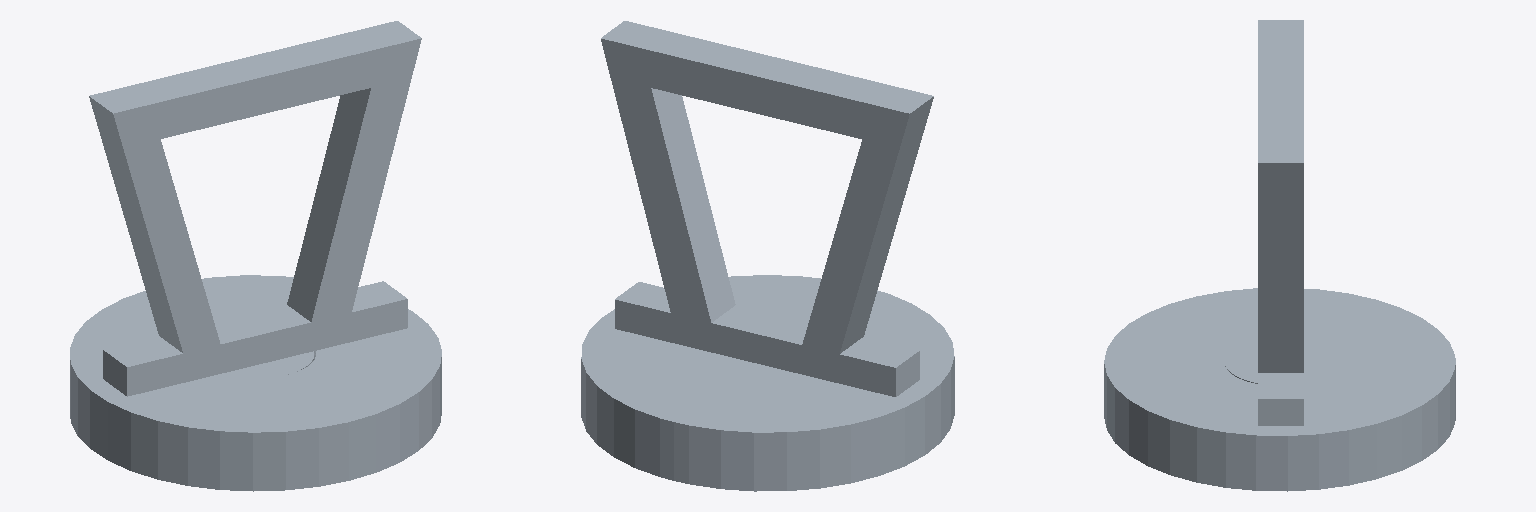
robot.urdf — valve_1:
<?xml version="1.0" encoding="utf-8"?>
<!-- Cleaned from the supplied SolidWorks part export. Source CAD file is not redistributed. -->
<robot name="valve_1">
  <link name="valve_1">
    <inertial>
      <origin
        xyz="0.00026275 -0.015438 0.091341"
        rpy="0 0 0" />
      <mass
        value="2.0277" />
      <inertia
        ixx="0.014088"
        ixy="-2.15919999999997E-07"
        ixz="-4.9058E-05"
        iyy="0.016248"
        iyz="2.85929999999998E-05"
        izz="0.013115" />
    </inertial>
    <visual>
      <origin
        xyz="0 0 0"
        rpy="1.5707963267949 0 0" />
      <geometry>
        <mesh
          filename="package://valve_1/meshes/1号阀.SLDPRT.STL" />
      </geometry>
      <material name="valve_1_material">
        <color rgba="0.72 0.76 0.80 1" />
      </material>
    </visual>
    <collision>
      <origin
        xyz="0 0 0"
        rpy="1.5707963267949 0 0" />
      <geometry>
        <mesh
          filename="package://valve_1/meshes/1号阀.SLDPRT.STL" />
      </geometry>
    </collision>
  </link>
</robot>

--- Render facts (derived) ---
3 views of the same robot in one strip: view 1: azimuth 30°, elevation 25°; view 2: azimuth 150°, elevation 25°; view 3: azimuth 270°, elevation 25° (orthographic).
Model valve_1 with 1 links and 0 joints (none), rooted at valve_1, posed all joints at 0.
Links seen in each view (by area): view 1: valve_1; view 2: valve_1; view 3: valve_1.
Link boxes in pixels (x1,y1,x2,y2): valve_1: [70, 21, 441, 491]; valve_1: [581, 21, 954, 491]; valve_1: [1104, 20, 1455, 491].
Size in the robot's own frame: 0.2298 by 0.23 by 0.235 metres.
1 mesh visuals loaded from 1 distinct referenced files (1 binary STL).
